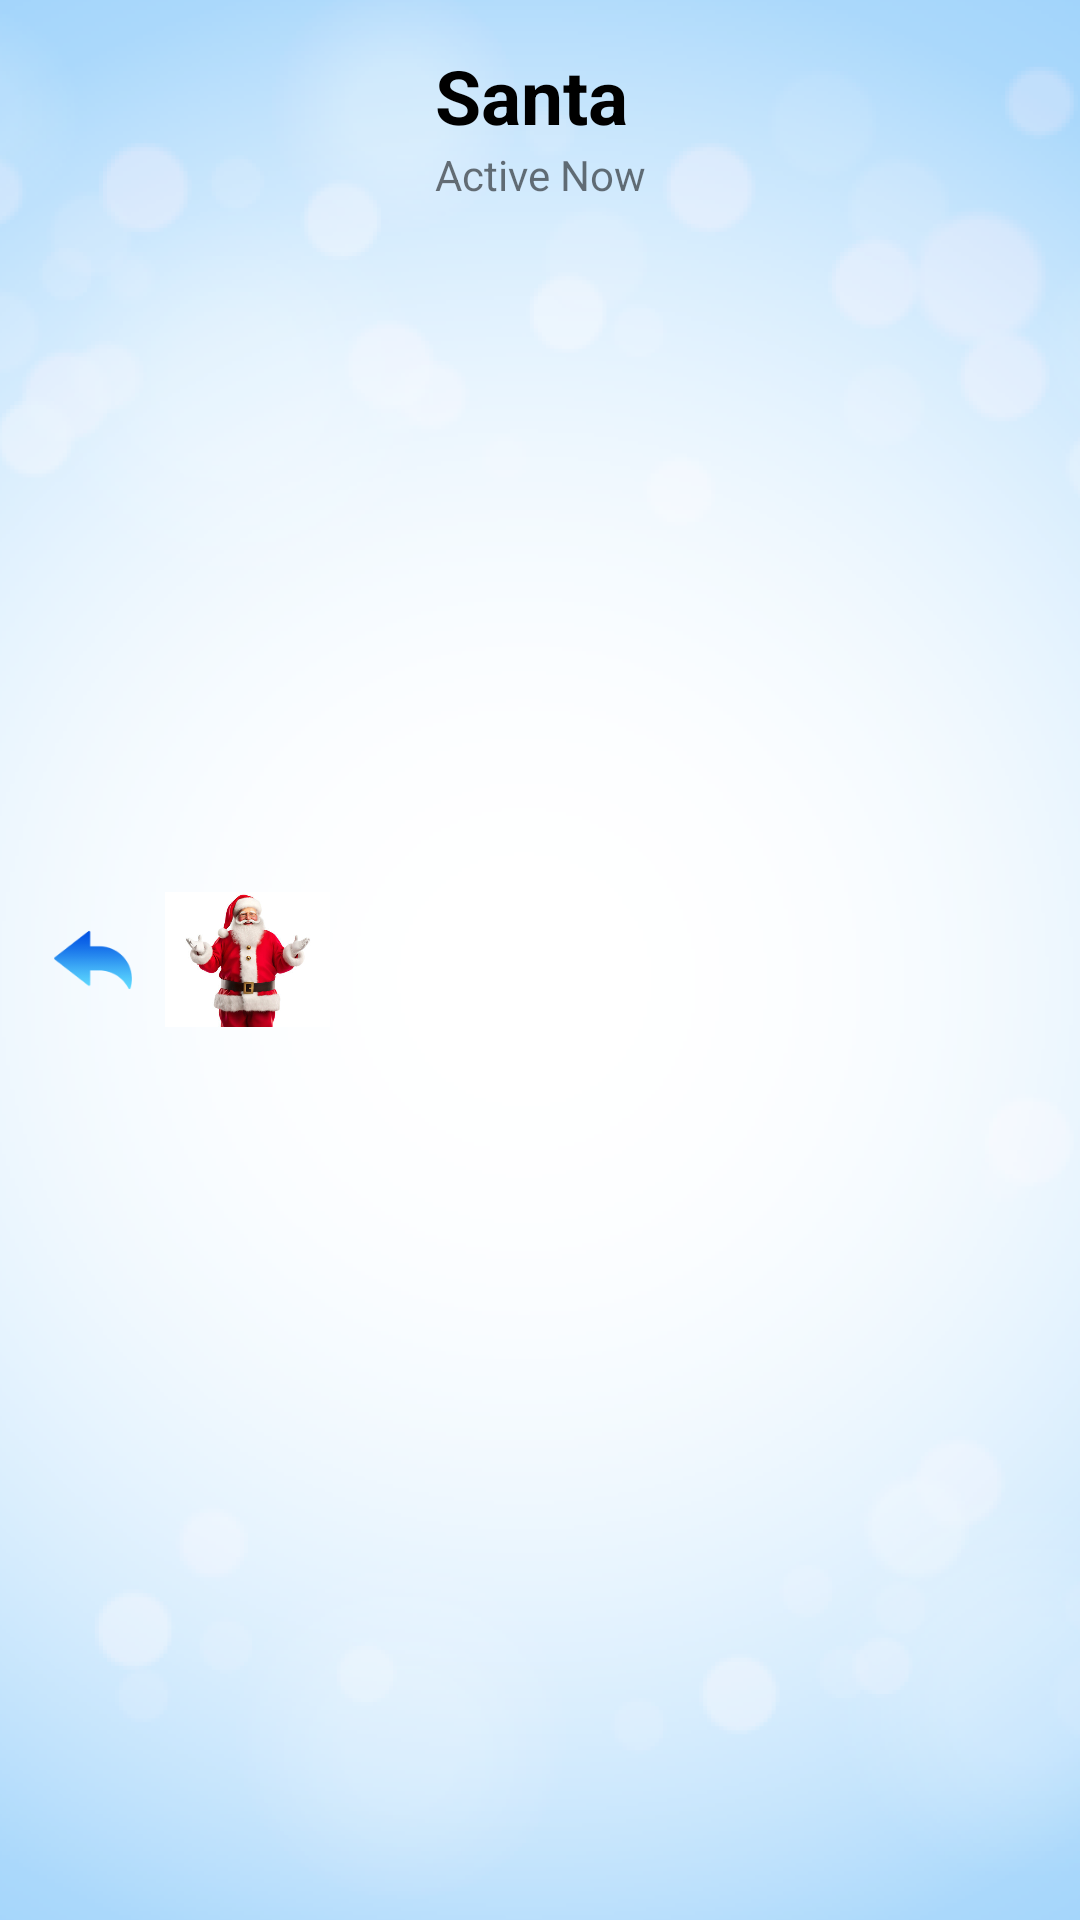

Icons on this 1080px x 1920px Android screen, each with its box as box=[x1, y1, x2, y2]:
back: box=[54, 931, 132, 989]
